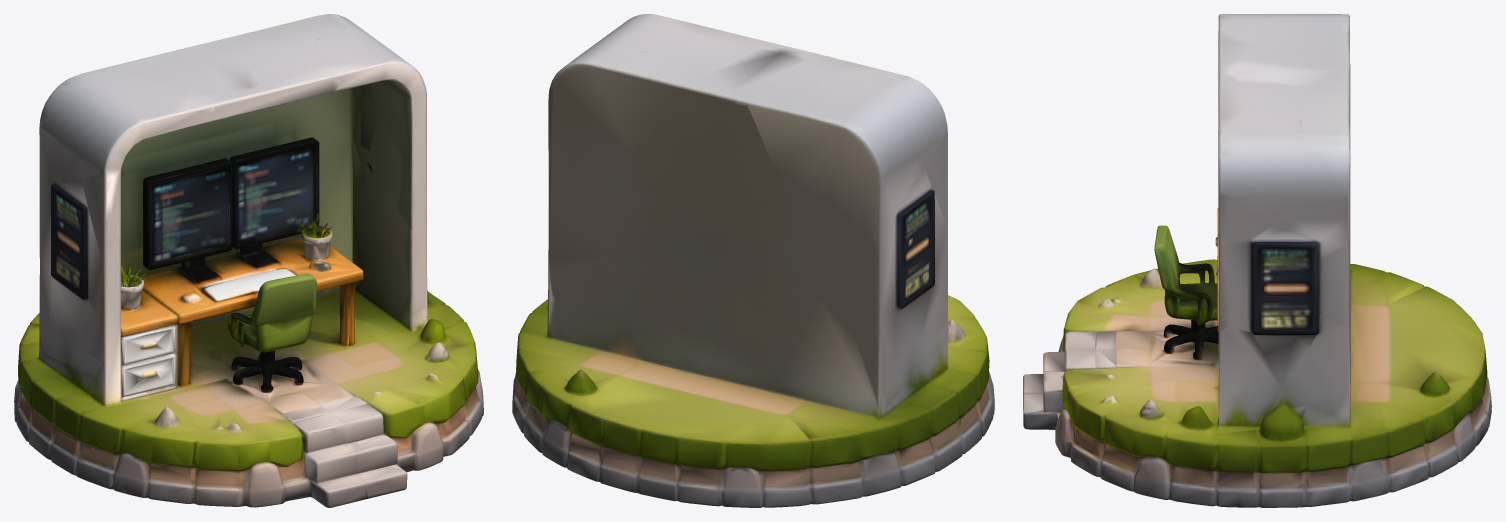
The model's file is fullstack_island.glb.
3 views of the same model, side by side, from view 1: azimuth 30°, elevation 25°; view 2: azimuth 150°, elevation 25°; view 3: azimuth 270°, elevation 25° (orthographic). The views are drawn at different scales.
Parts seen in each view (by area): view 1: node_0; view 2: node_0; view 3: node_0.
Part boxes in pixels (x1,y1,x2,y2): node_0: [14, 14, 483, 507]; node_0: [512, 14, 994, 507]; node_0: [1023, 14, 1491, 507].
Size of the model in its own units: 0.9213 by 0.7354 by 0.9385.
1 material, 1 textured.
